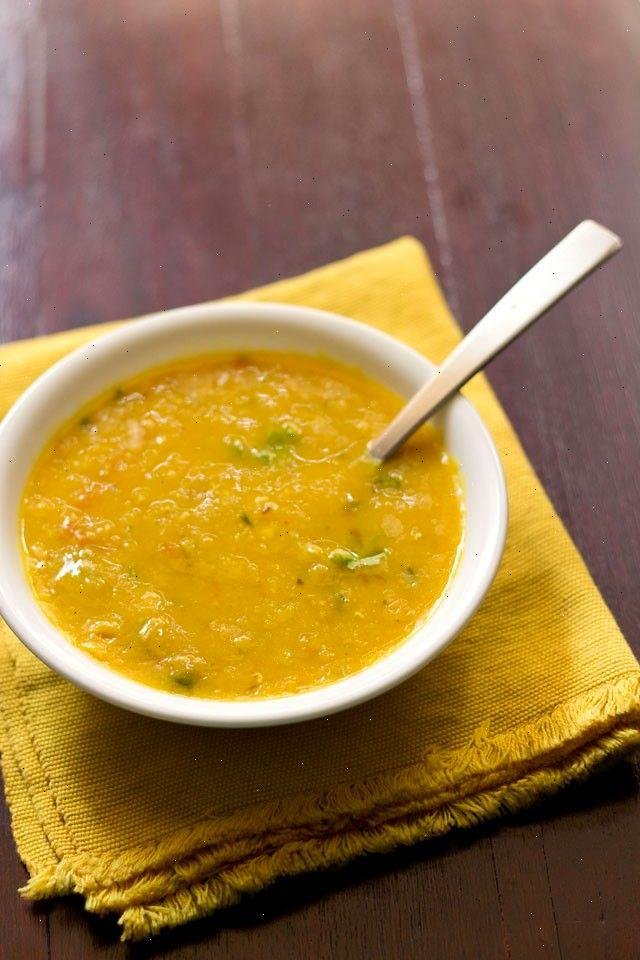daal: (0, 340, 473, 717)
